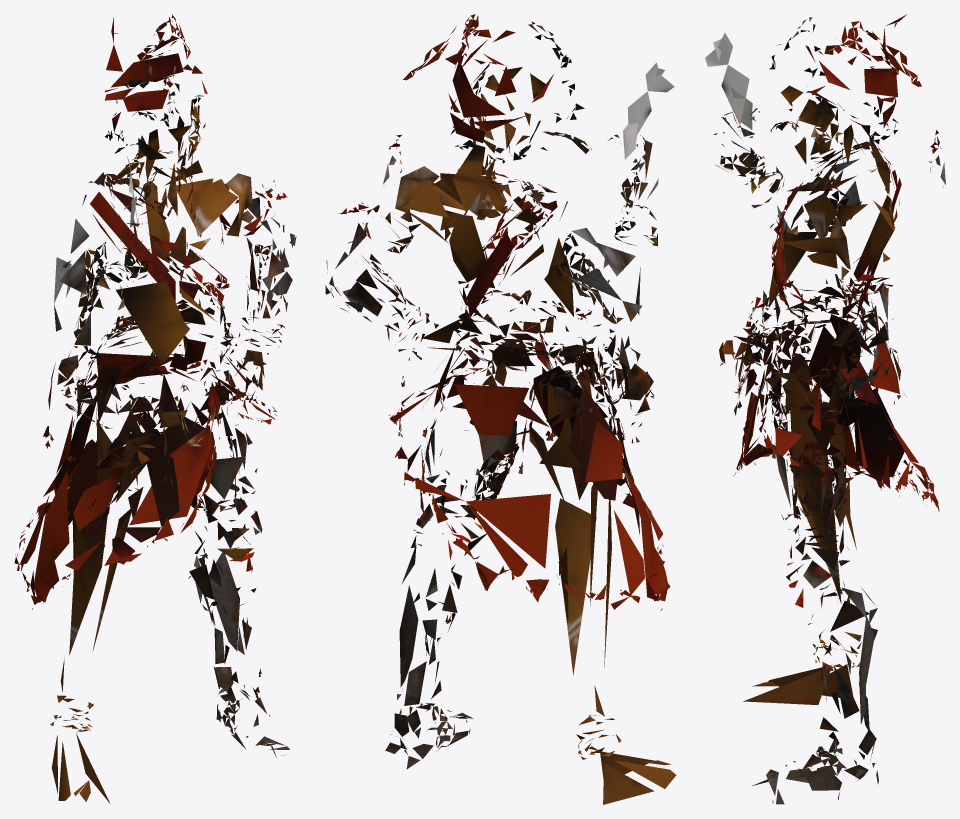
File: demo_sentinel_01.glb
3 views of the same model, side by side, from view 1: azimuth 30°, elevation 25°; view 2: azimuth 150°, elevation 25°; view 3: azimuth 270°, elevation 25° (orthographic). The views are drawn at different scales.
Visible parts, largest first — view 1: node_0; view 2: node_0; view 3: node_0.
Part boxes in pixels (x1=…): node_0: x1=14, y1=14, x2=296, y2=803; node_0: x1=325, y1=14, x2=676, y2=804; node_0: x1=705, y1=14, x2=945, y2=804.
Size of the model in its own units: 0.4538 by 1.08 by 0.3169.
1 material, 1 textured.
